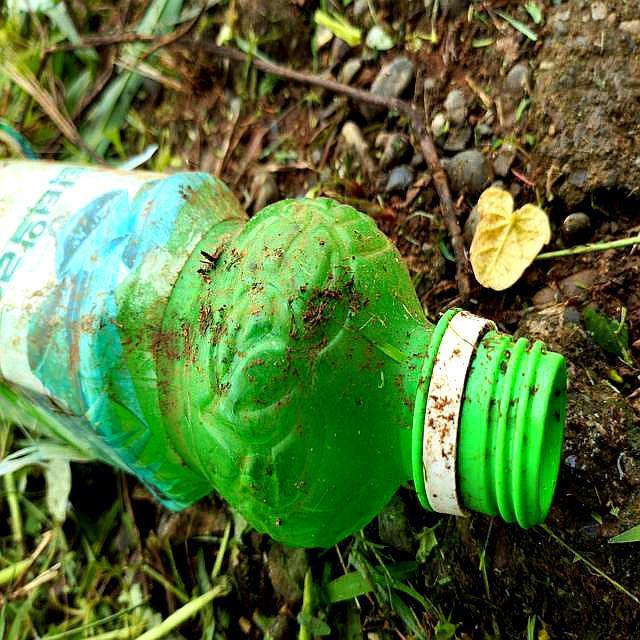Non-biodegradable: (3, 143, 581, 563)
